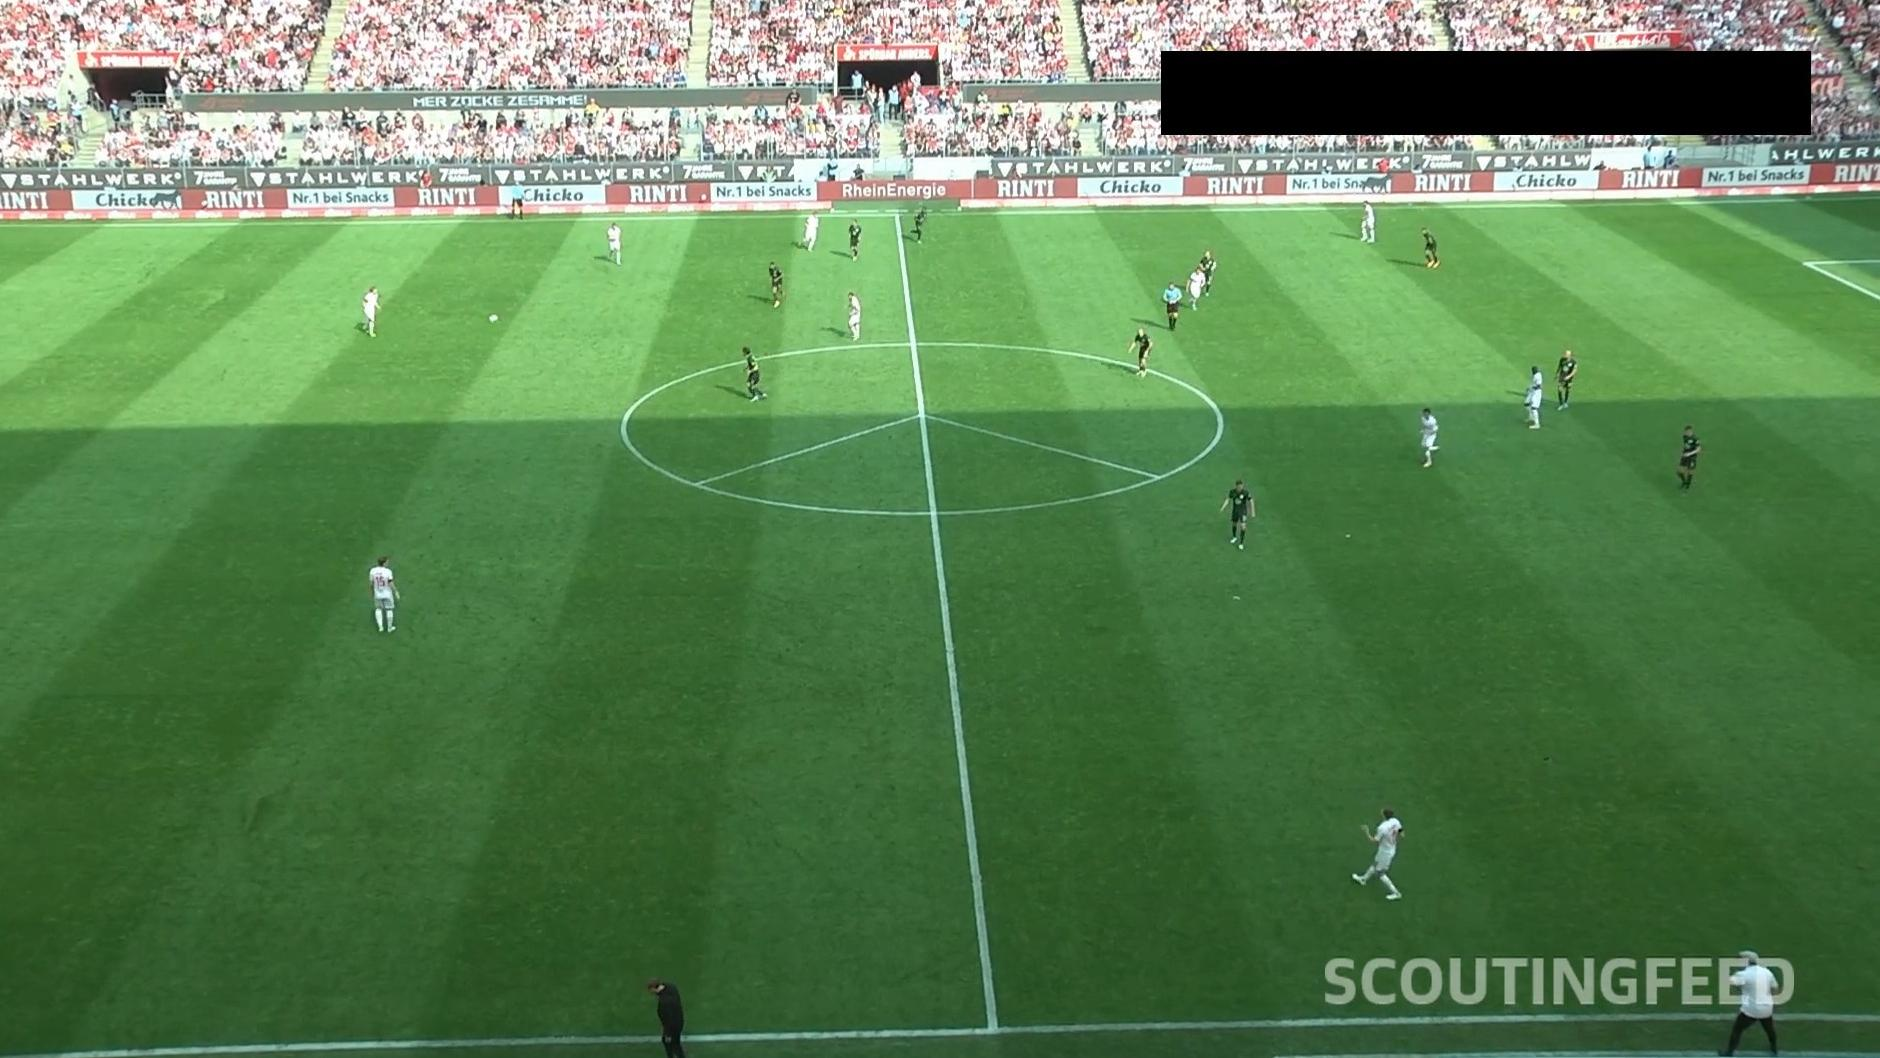ball: (488, 313, 498, 323)
